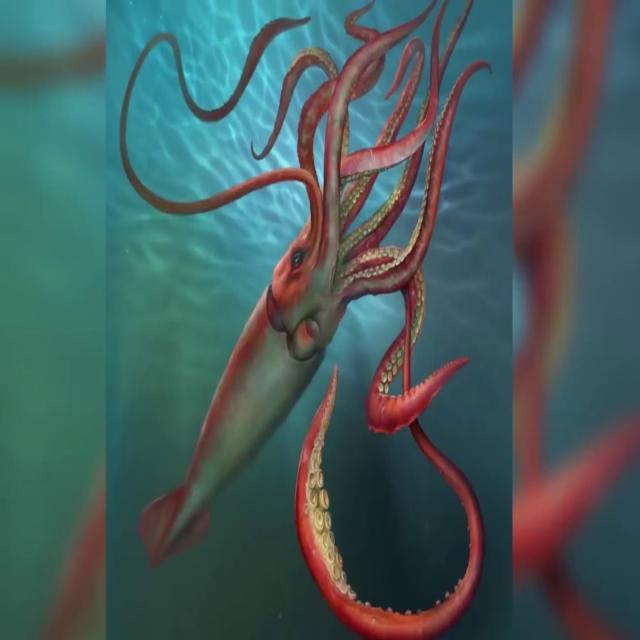squid: (118, 0, 487, 640)
